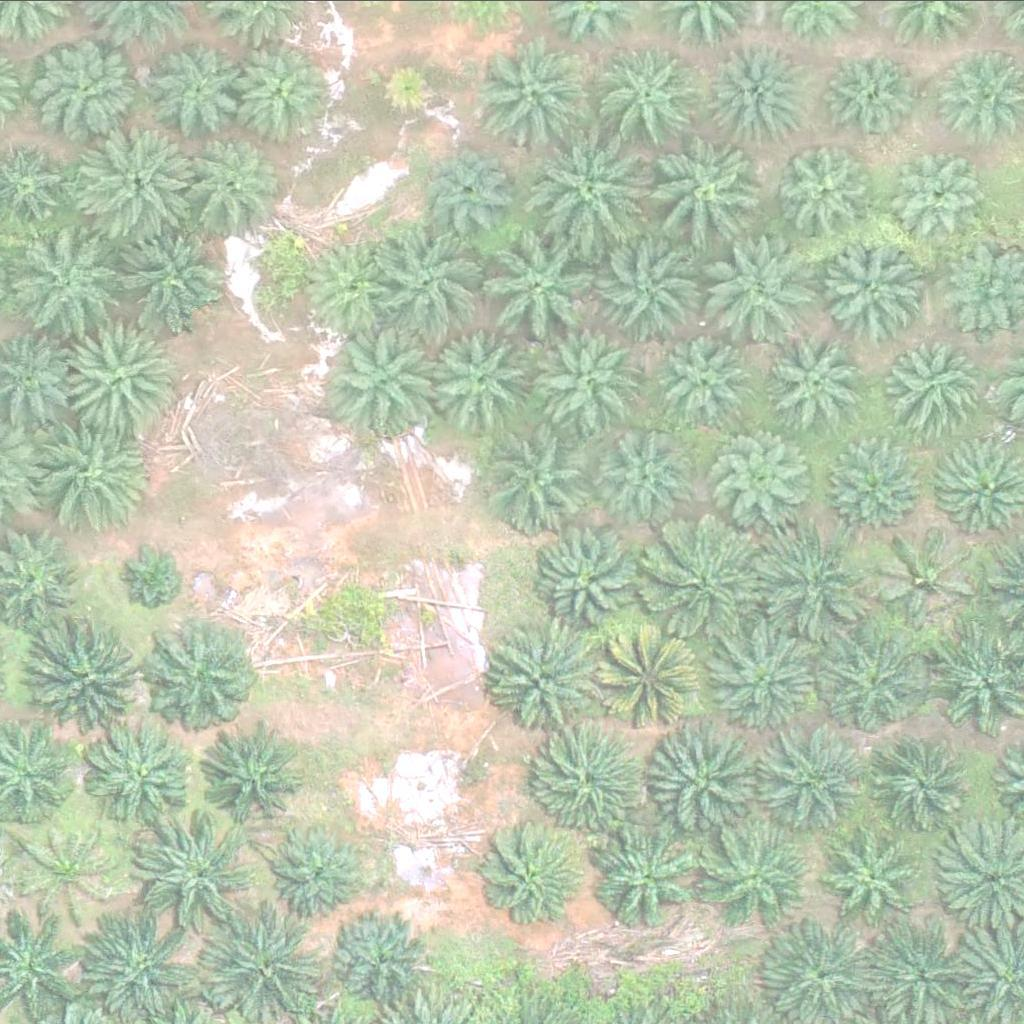Kelapa_Sawit: (208, 908, 322, 1021), (593, 230, 706, 343), (758, 528, 871, 641), (646, 524, 759, 637), (653, 721, 766, 834), (595, 819, 708, 932), (116, 216, 229, 329), (63, 322, 176, 435), (37, 425, 150, 538), (540, 133, 653, 246), (489, 227, 602, 340), (332, 322, 445, 435), (534, 525, 647, 638), (33, 621, 146, 734), (82, 907, 195, 1020), (710, 232, 824, 344), (700, 817, 814, 929), (83, 714, 197, 826), (472, 819, 586, 931), (649, 138, 762, 250), (75, 125, 188, 237), (476, 37, 589, 149), (372, 222, 485, 334), (522, 320, 635, 432), (485, 426, 598, 538), (491, 623, 604, 735), (535, 733, 648, 845), (149, 620, 262, 732), (138, 816, 251, 928), (598, 42, 699, 142), (771, 137, 872, 237), (826, 237, 927, 337), (768, 332, 869, 432), (888, 340, 989, 440), (823, 434, 924, 534), (712, 636, 813, 736), (824, 634, 925, 734), (769, 728, 870, 828), (824, 827, 925, 927), (37, 38, 138, 138), (146, 36, 247, 136), (185, 141, 286, 241), (302, 235, 403, 335), (436, 327, 537, 427), (11, 818, 112, 918), (329, 911, 430, 1011), (713, 46, 813, 146), (718, 431, 818, 531), (874, 525, 974, 625), (606, 630, 706, 730), (883, 736, 983, 836), (232, 36, 332, 136), (202, 725, 302, 825), (275, 822, 375, 922), (824, 52, 912, 140), (422, 140, 510, 228), (892, 152, 980, 239), (663, 333, 751, 420), (608, 431, 696, 518), (112, 539, 187, 614), (380, 60, 443, 123)
